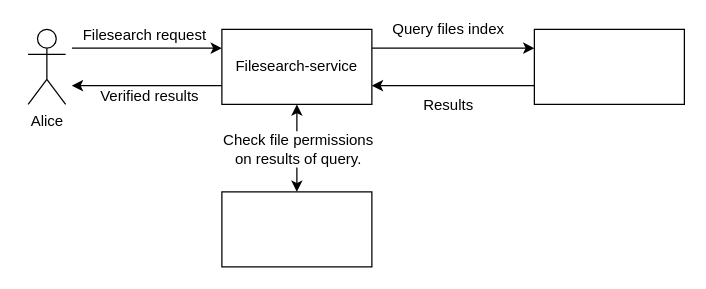
This 706x289 diagram has some shape labels left out. The centre of each missing label's shape, as x and y in pixels:
"Indexing-service" belongs at (x=608, y=66).
"Storage-service" belongs at (x=296, y=229).
